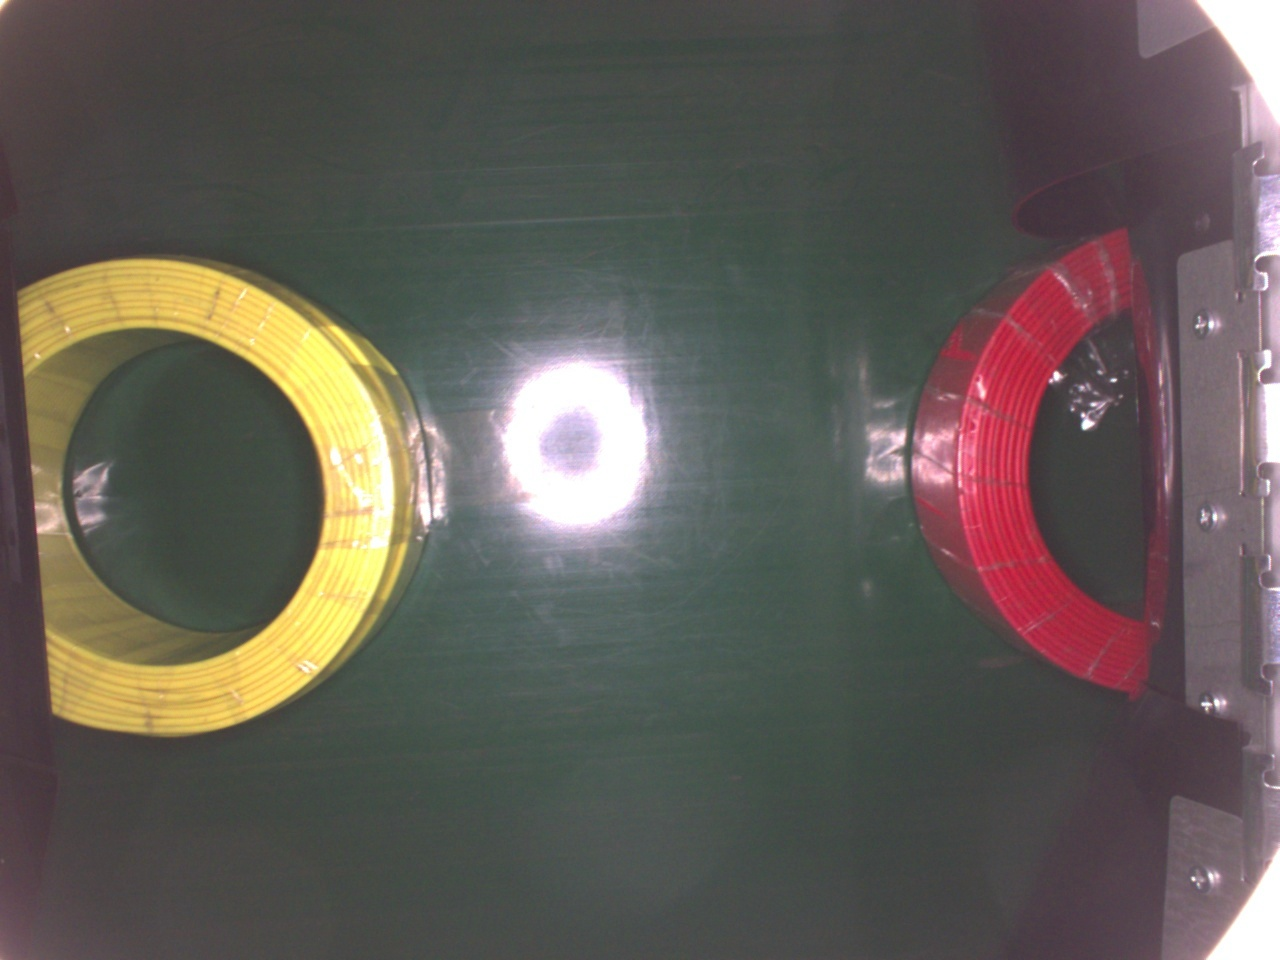red: (908, 218, 1158, 697)
yellow: (18, 253, 434, 739)
